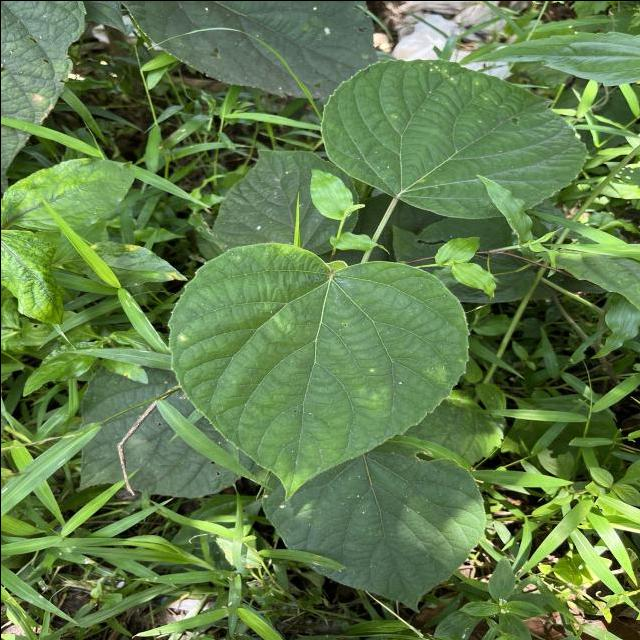Clerodendrum infortunatum: (162, 240, 471, 502), (317, 56, 588, 220), (258, 438, 486, 614)
